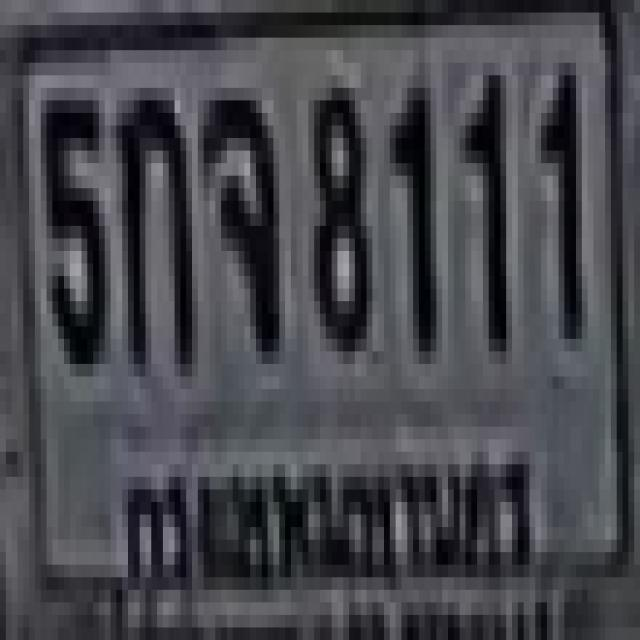-: (114, 81, 189, 358), (198, 88, 273, 351)
1: (535, 56, 576, 332), (460, 63, 500, 339), (387, 75, 428, 339)
5: (40, 81, 104, 358)
8: (308, 75, 366, 339)
BKK: (107, 428, 548, 598)
